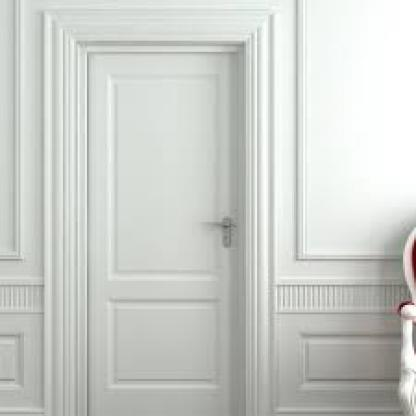door: (81, 41, 248, 414)
